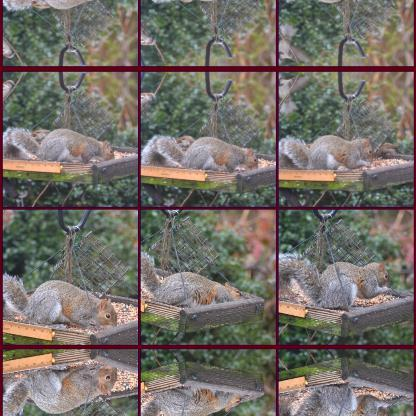Squirrel: (1, 271, 116, 327), (278, 252, 388, 309), (140, 250, 246, 306), (1, 365, 117, 415), (140, 132, 258, 172), (3, 125, 113, 163), (278, 132, 372, 170), (278, 383, 389, 415), (139, 386, 247, 415), (3, 0, 114, 12)
